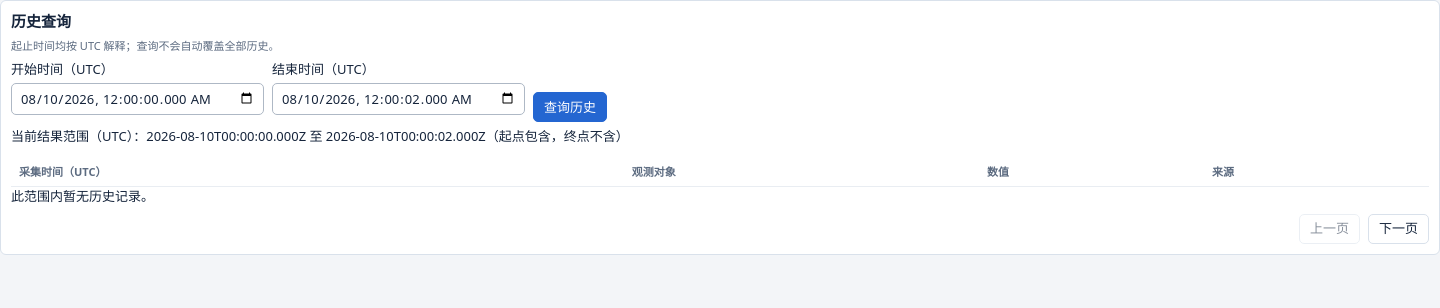
Scenario: preserves an invalid edited draft and its alert when a successful result arrives
This screenshot has width=1440, height=308.
Later steps or results of the test are not shown.
Replace the text in the field labelled "结束时间（UTC）" with "1969-12-31T00:00:00.000" at (398, 99), box top-left (272, 83), bottom-right (525, 115)
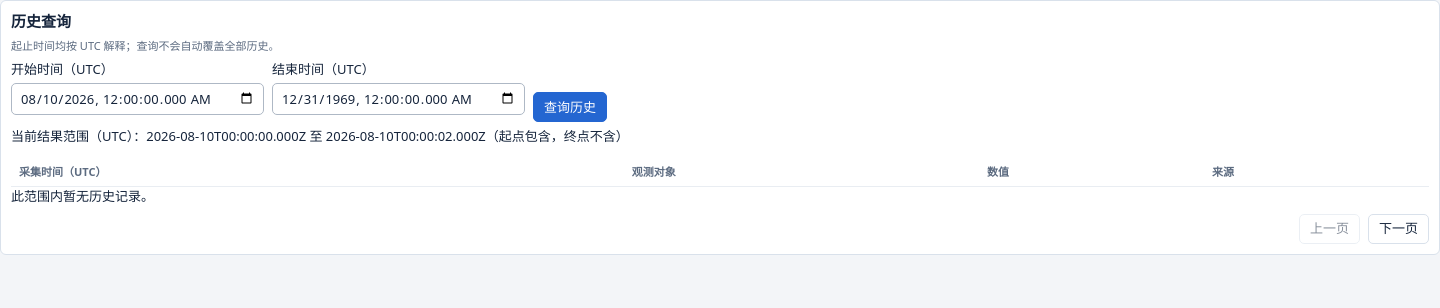
Click the button "查询历史" at (570, 107), box top-left (533, 92), bottom-right (607, 122)
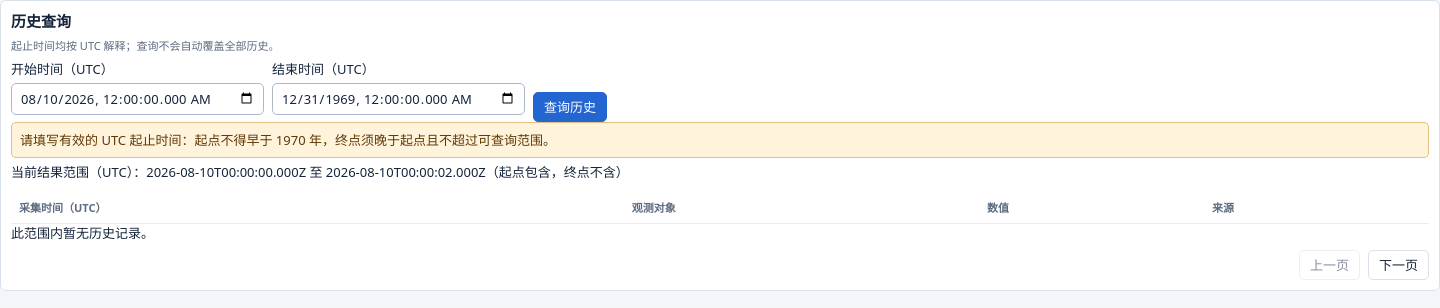
Expected: the message "请填写有效的 UTC 起止时间：起点不得早于 1970 年，终点须晚于起点且不超过可查询范围。" is shown, top-left (11, 122), bottom-right (1429, 158)
